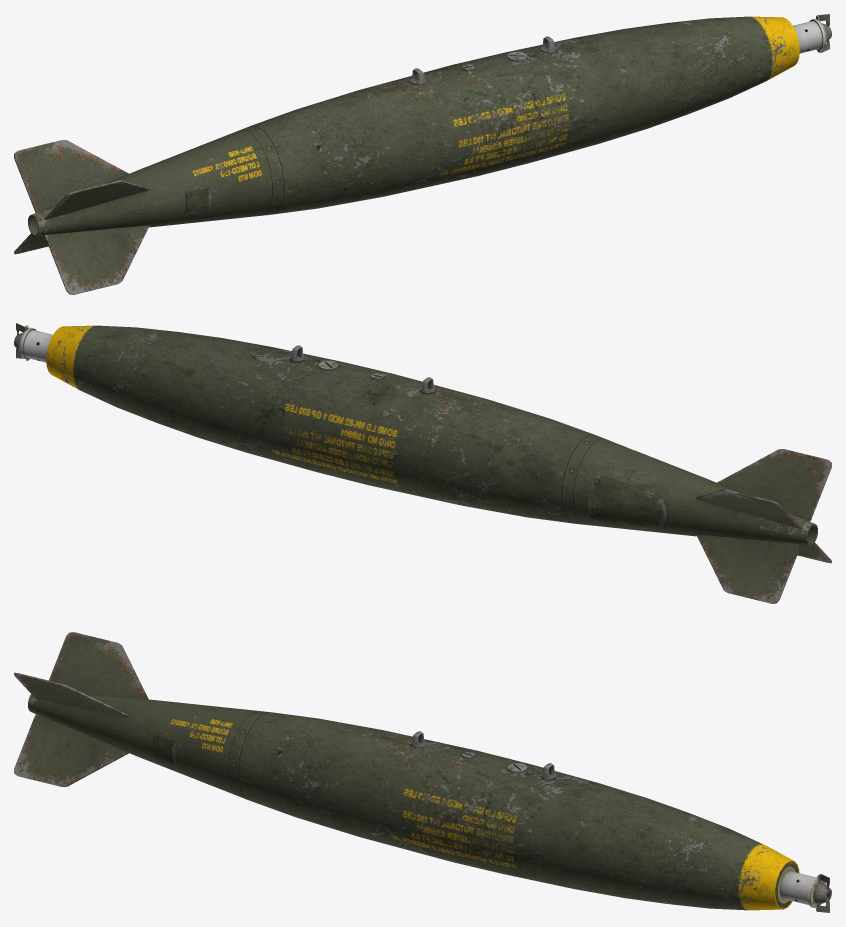
Rendered from us_500_lb_ldgp_mk_82_bomb_war_thunder.glb.
The picture shows the model from 3 angles, top to bottom: view 1: azimuth 30°, elevation 25°; view 2: azimuth 150°, elevation 25°; view 3: azimuth 330°, elevation 25°; orthographic projection.
Visible parts, largest first — view 1: Object_2; view 2: Object_2; view 3: Object_2.
Boxes of the visible parts, x1,y1,x2,y2 form: Object_2: [14, 14, 831, 294]; Object_2: [14, 323, 831, 603]; Object_2: [14, 632, 831, 912].
Bounding box in the file's own units: 2.21 × 0.3018 × 0.2736.
Materials: 1 (1 with a texture image).
